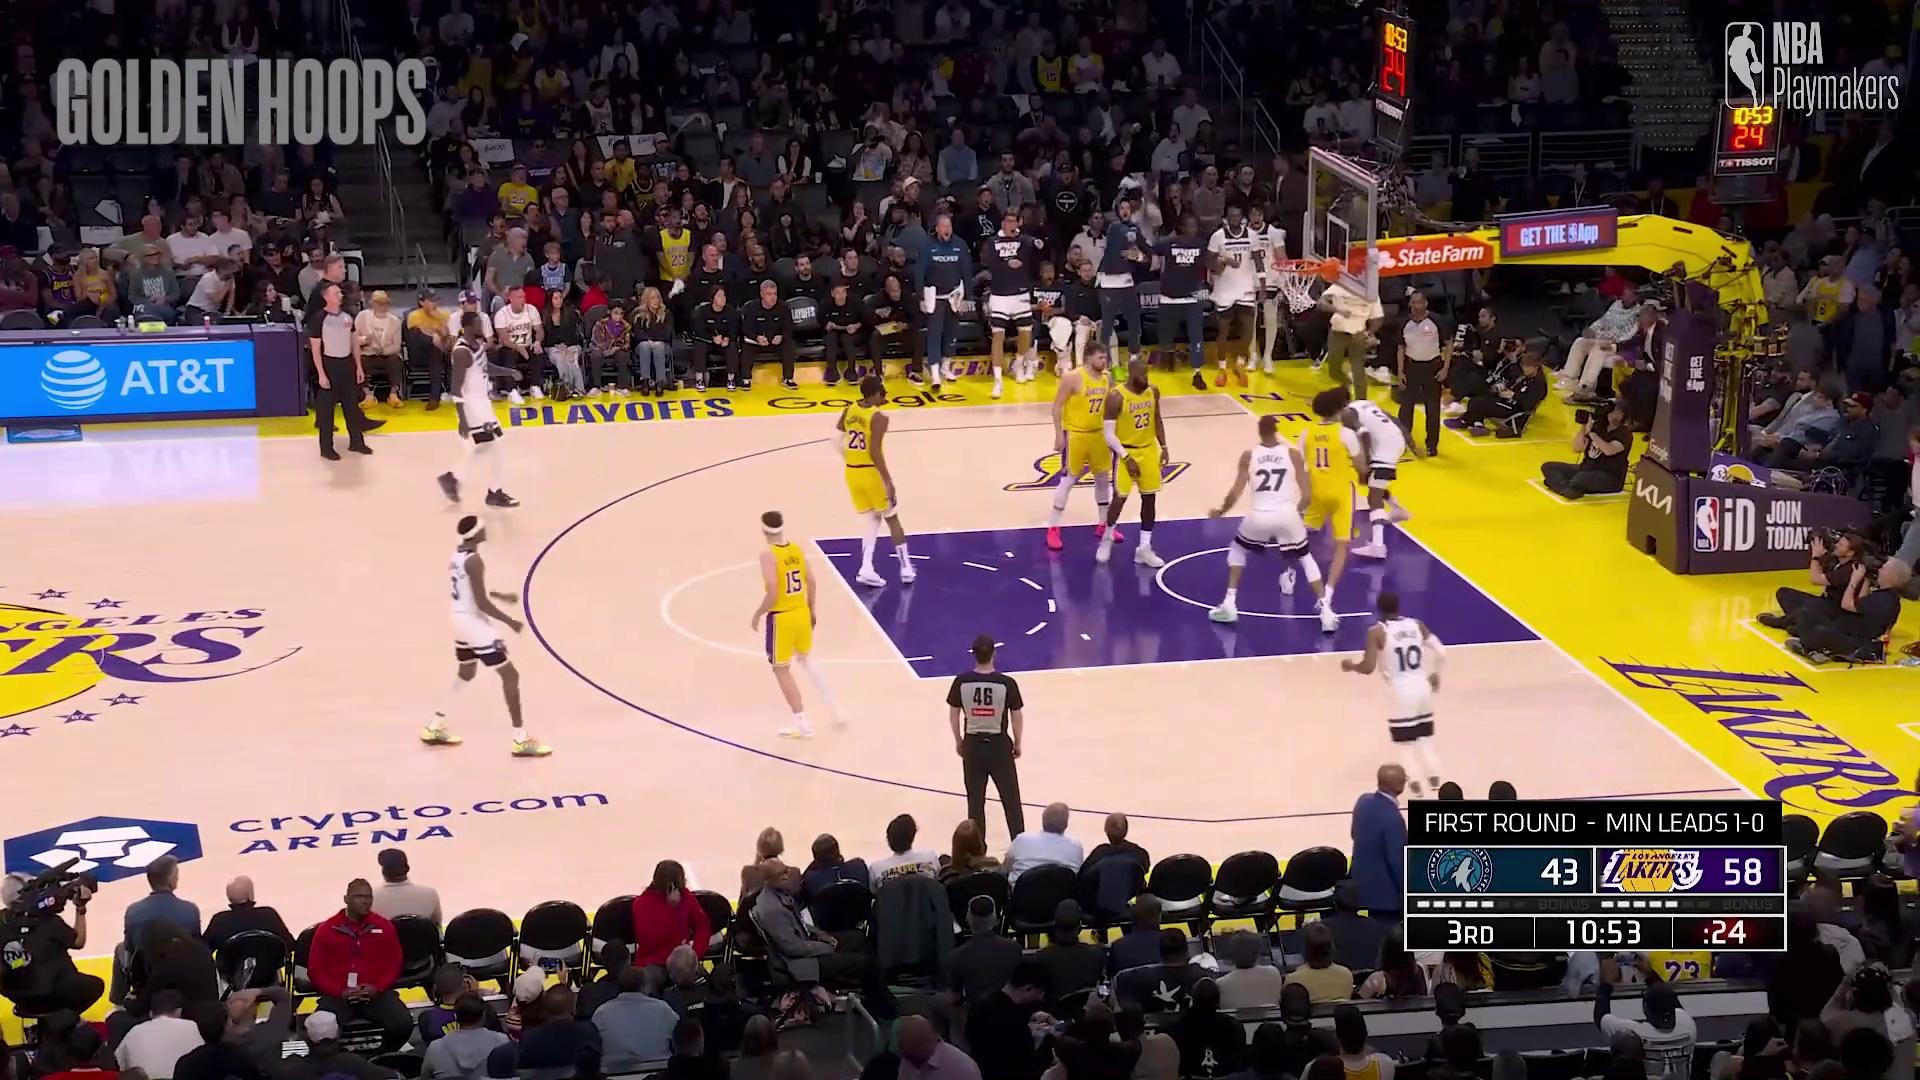hoop: (1270, 248, 1323, 316)
